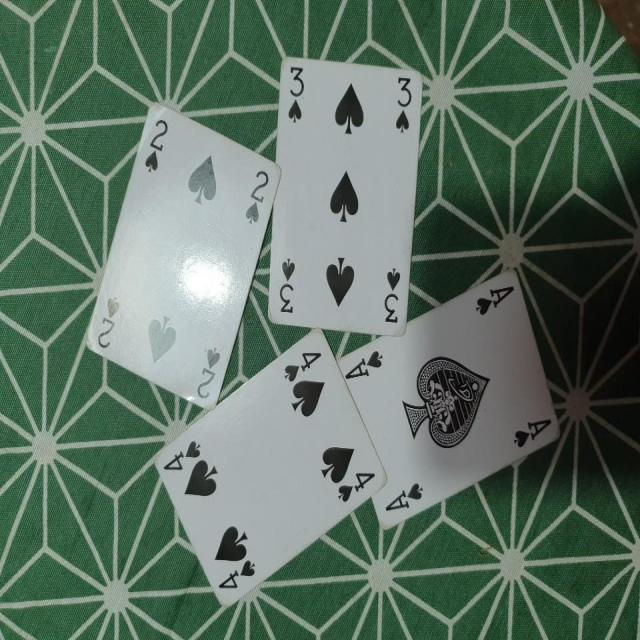2 Spades: (80, 89, 284, 414)
3 Spades: (254, 52, 434, 345)
4 Spades: (151, 322, 377, 612)
A Spades: (339, 268, 572, 550)
